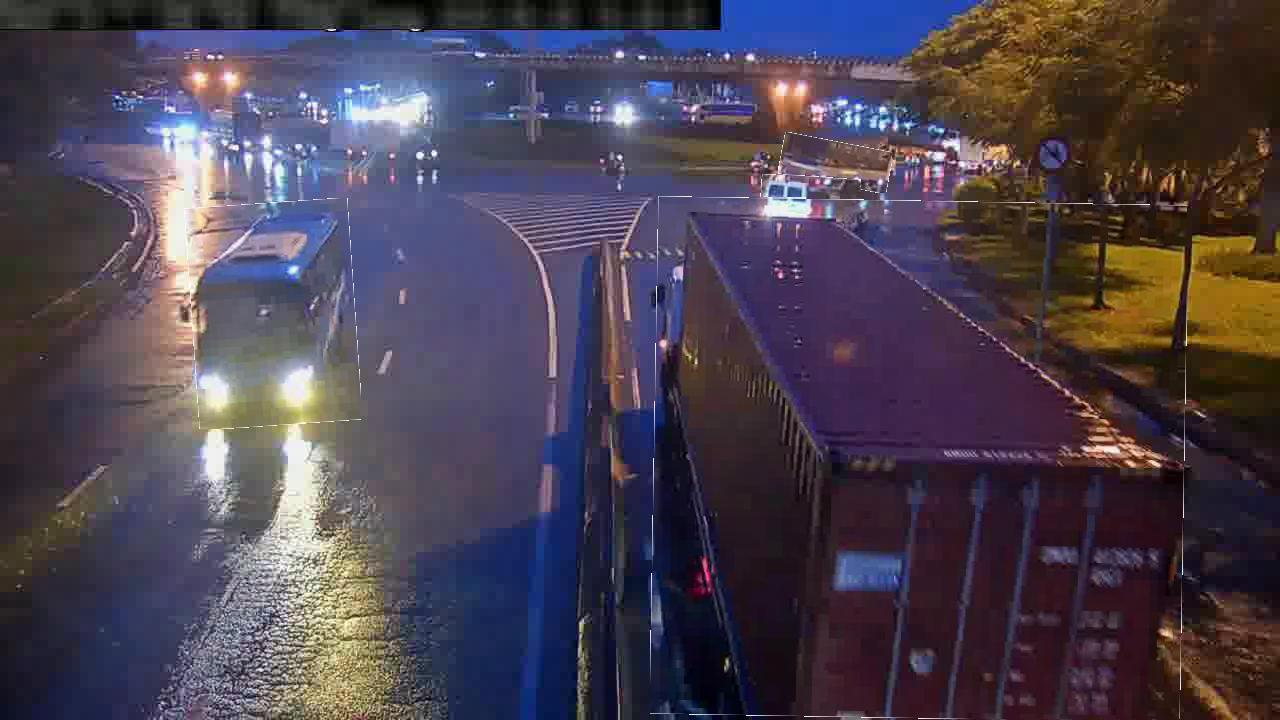container: (652, 198, 1187, 719), (780, 137, 892, 189)
passenger_car: (188, 200, 359, 428), (760, 176, 862, 230)
